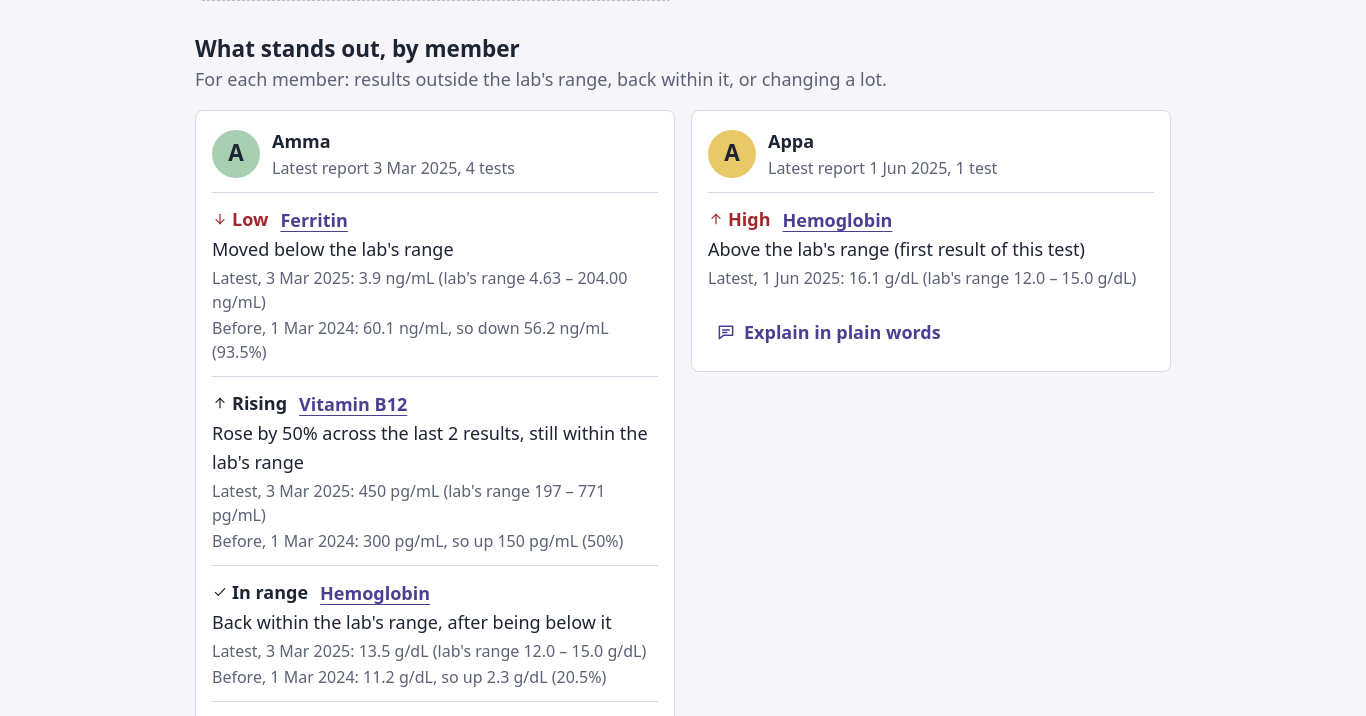
Test: what stands out on the family page › lists each member’s findings and explains one member at a time
(page scrolled)
Click the button "Explain in plain words" at (828, 332), box 700,310 -> 957,355
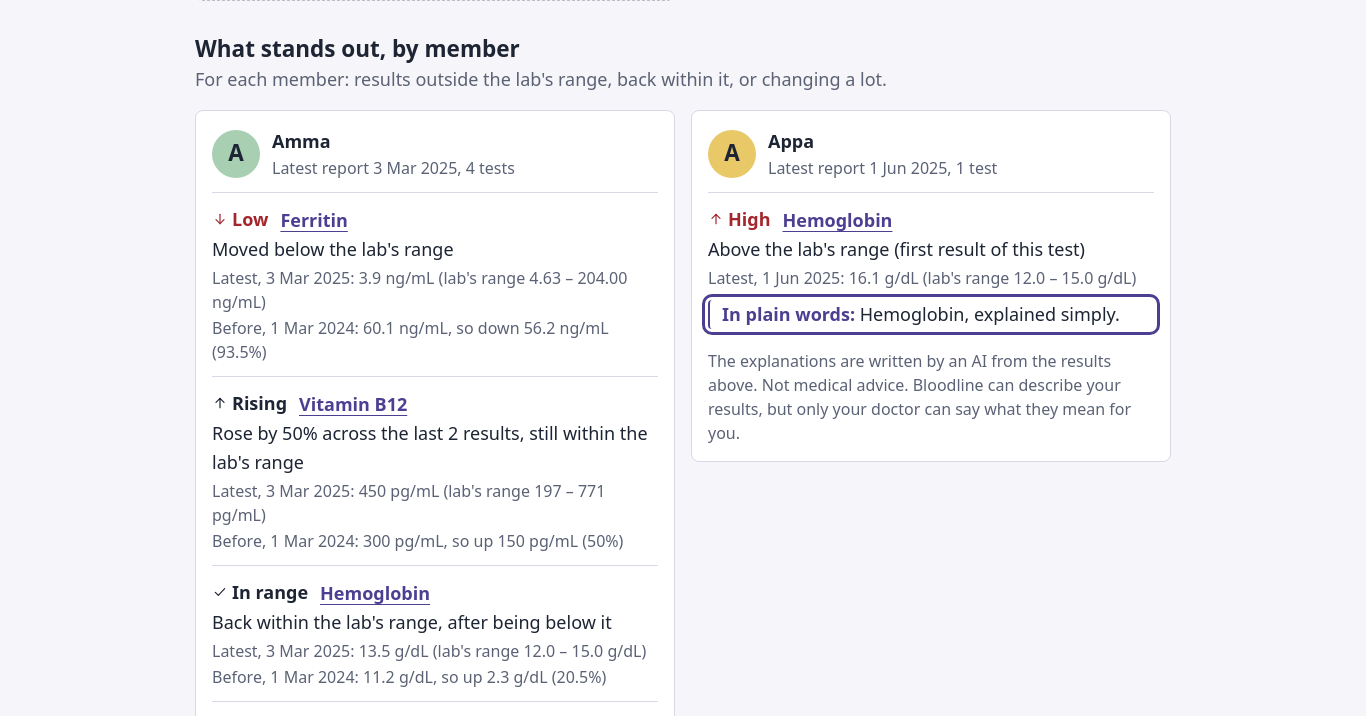
Now the text "Hemoglobin, explained simply." is shown, box 860,302 -> 1120,326
